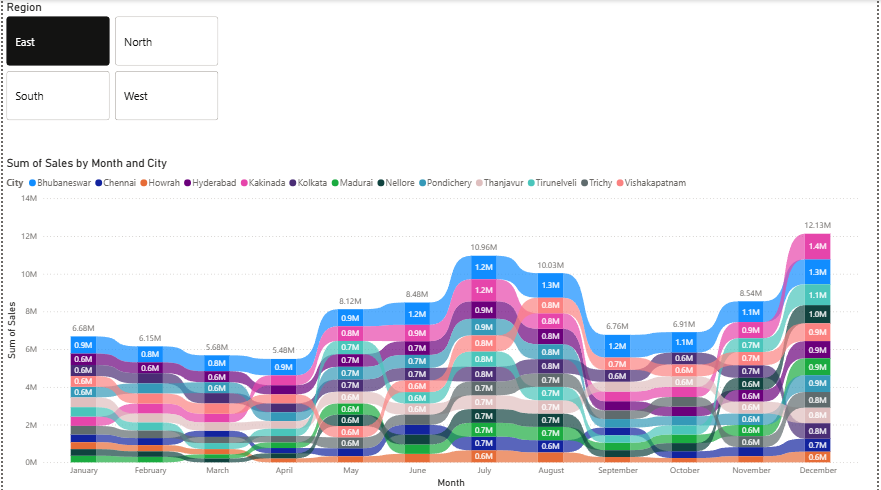

What the dashboard file says about the page in this screenshot:
{"tool":"powerbi","page":{"name":"Page 3","canvas":[1280,720],"ordinal":2},"visuals":[{"type":"ribbonChart","fields":{"Category":["BV India.Date.Variation.Date Hierarchy.Month"],"Series":["BV India.City"],"Y":["Sum(BV India.Sales)"]},"box":[0,228.3,1256.7,491.7],"z":0},{"type":"advancedSlicerVisual","fields":{"Values":["BV India.Region"]},"box":[0,0,320,181.7],"z":1000}]}

Visuals, with their boxes in screenshot pixels (x1, y1, x2, y2), scaled from the page's 1280x720 canvas onto the 881x490 screenshot:
ribbonChart - BV India.Date.Variation.Date Hierarchy.Month x BV India.City: left=0, top=155, right=865, bottom=489
advancedSlicerVisual - BV India.Region: left=0, top=0, right=220, bottom=124
